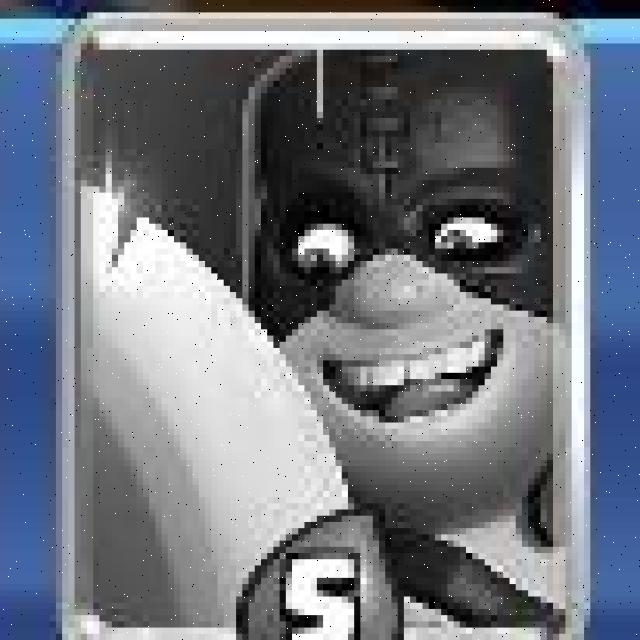Executioner: (63, 21, 594, 640)
